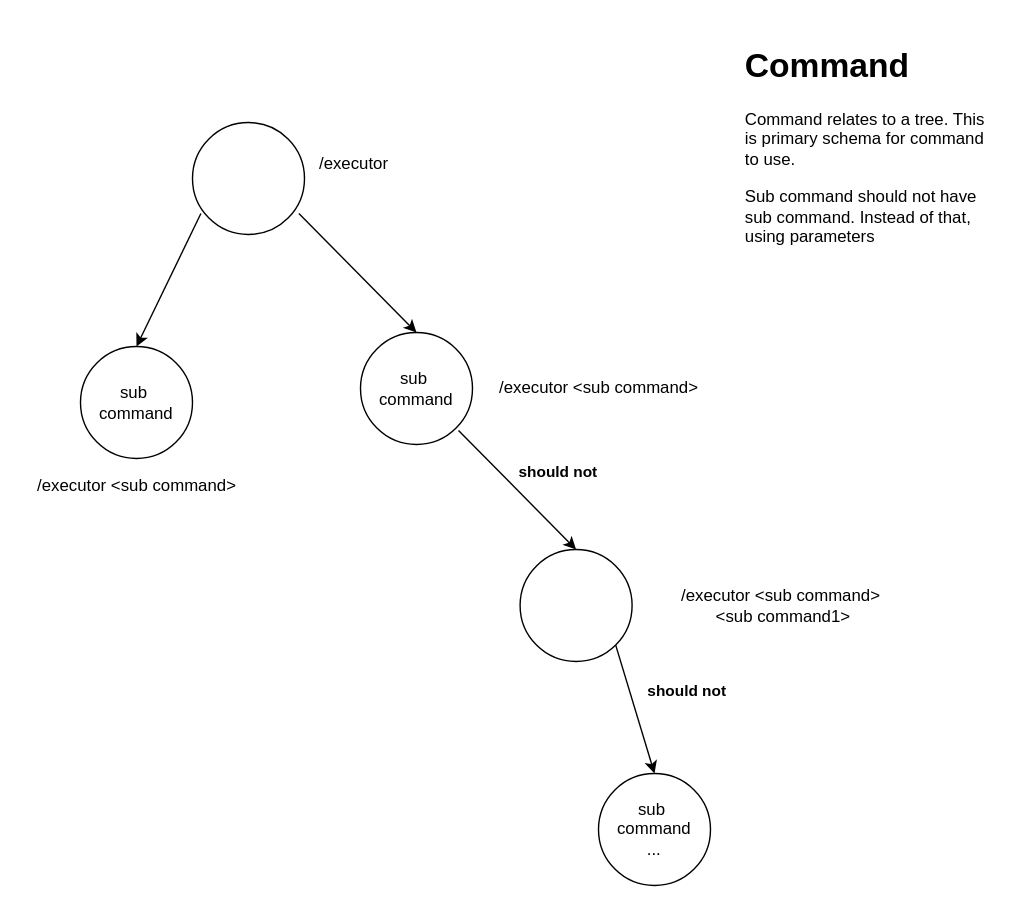
The diagram is 1028 pixels wide and 910 high, and some of its shapes have lost their labels. Here are the shapes that lost their labels. From the top down, the centre of each, then its label:
At (247,177): "executor".
At (575,605): "sub command 1".
